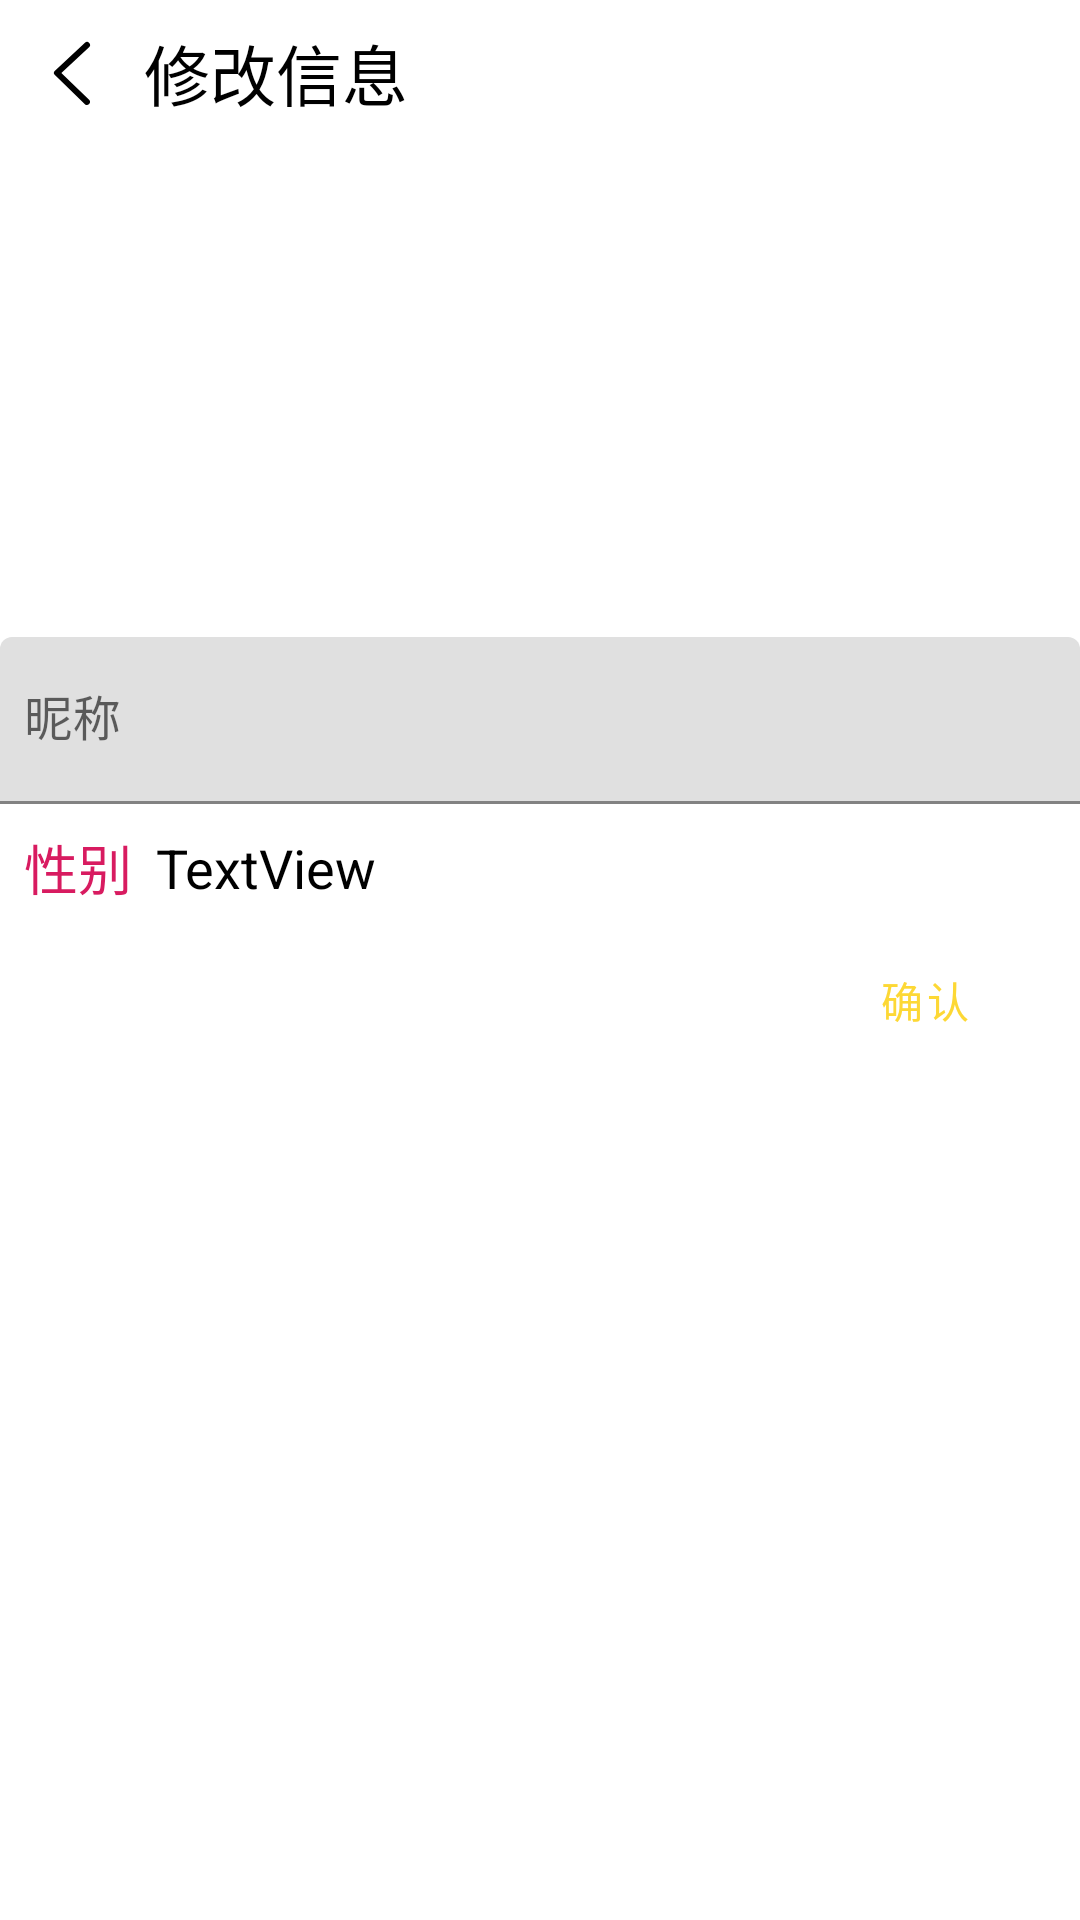

Screen size 1080px×1920px. Icon name, then its box in pixels as [x1, y1, x2, y2]:
return: [54, 41, 90, 105]
